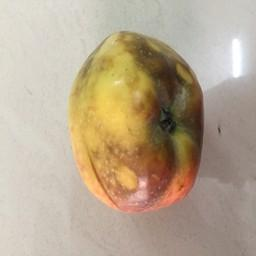Bad_apple: (64, 30, 204, 219)
